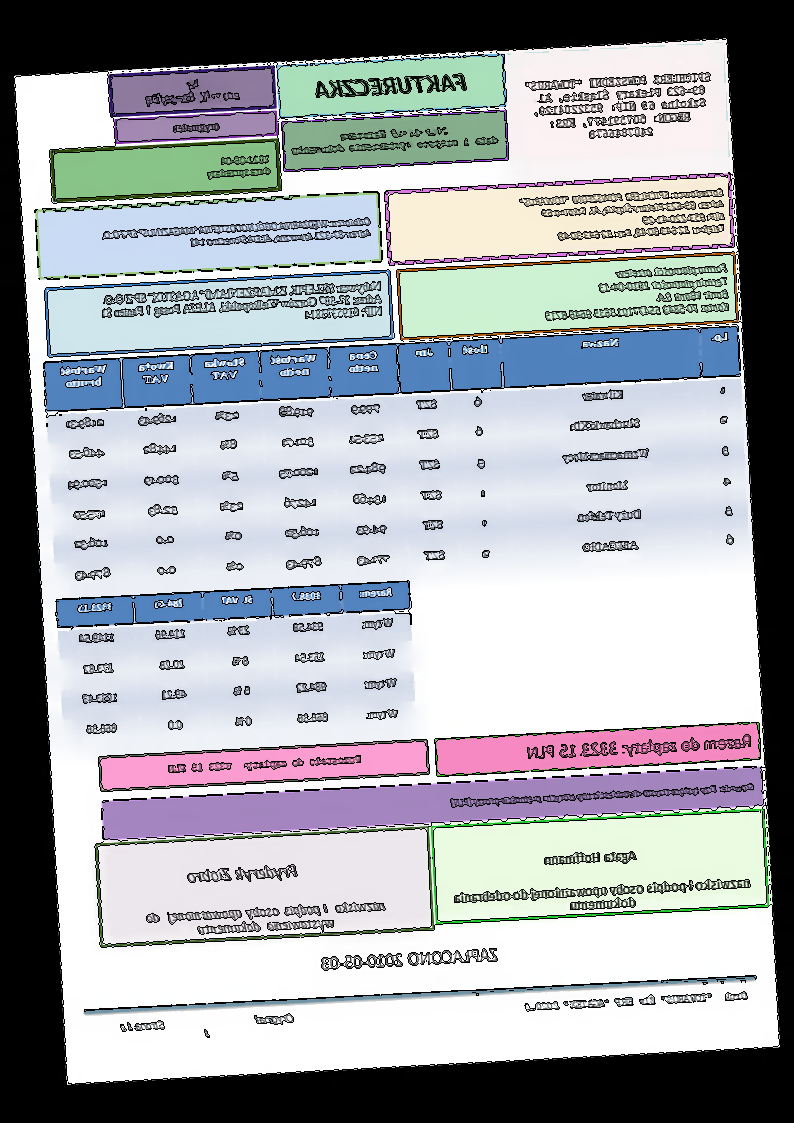Table: (44, 325, 751, 595), (55, 579, 419, 751)
TextBox: (97, 278, 384, 332), (524, 70, 715, 144), (453, 874, 752, 918), (517, 186, 728, 246), (541, 261, 732, 324), (99, 214, 375, 253), (145, 899, 387, 939), (449, 780, 757, 811), (290, 120, 501, 157), (526, 733, 753, 764), (117, 1013, 296, 1043), (524, 990, 749, 1013), (318, 945, 500, 972), (167, 753, 363, 777), (314, 72, 468, 100), (141, 75, 242, 108), (185, 861, 300, 888), (543, 849, 638, 869), (205, 153, 272, 181), (170, 119, 221, 137)
